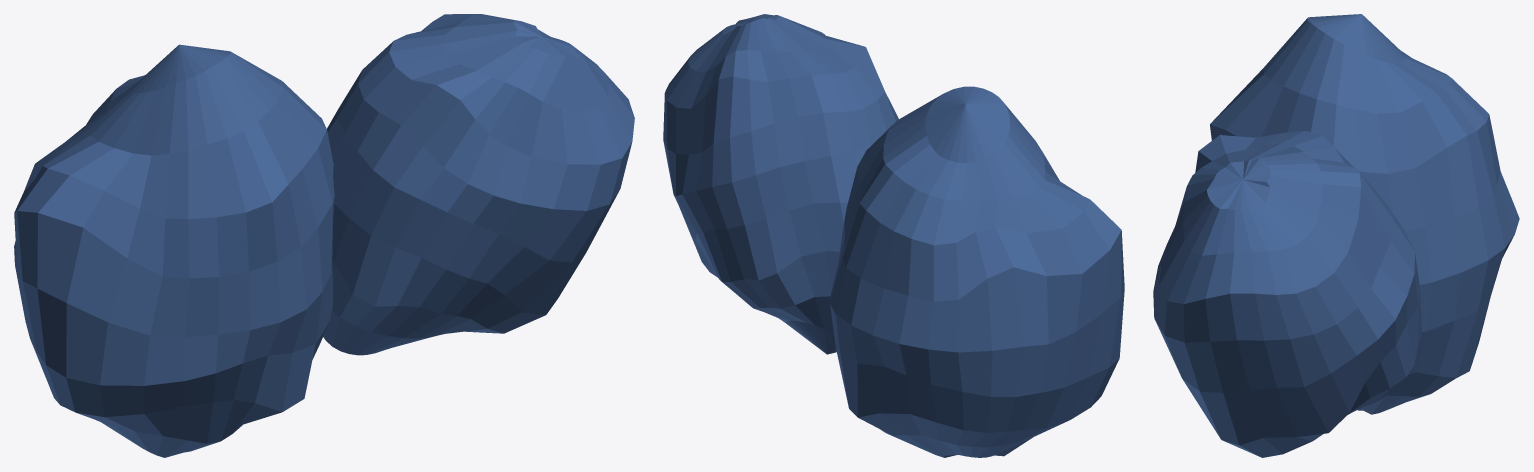
File: tree-winter-leaves-12-042.glb
The picture shows the model from 3 angles, left to right: view 1: azimuth 30°, elevation 25°; view 2: azimuth 150°, elevation 25°; view 3: azimuth 270°, elevation 25°; orthographic projection. The views are drawn at different scales.
Visible parts, largest first — view 1: TREE 12.005_189; view 2: TREE 12.005_189; view 3: TREE 12.005_189.
Part boxes in pixels (<box>): TREE 12.005_189: <box>14,14,634,457</box>; TREE 12.005_189: <box>663,14,1124,457</box>; TREE 12.005_189: <box>1153,14,1519,457</box>.
Bounding box in the file's own units: 1.4 × 0.9692 × 0.828.
